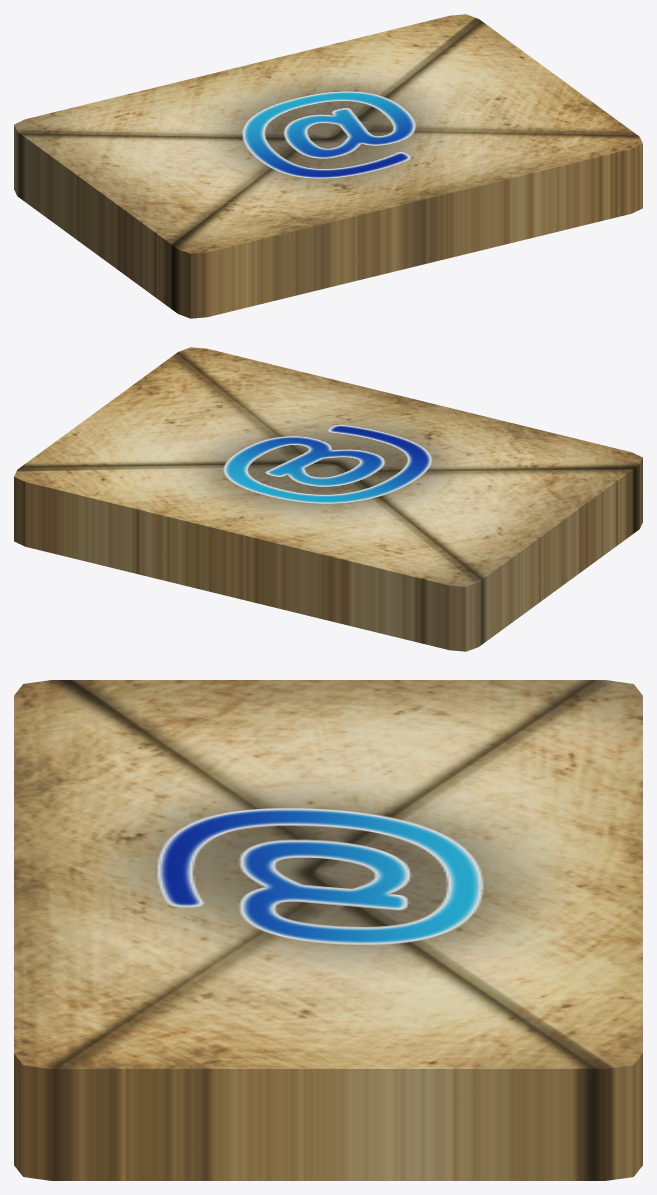
Rendered from eMail.FBX.
3 views of the same model, one above another, from view 1: azimuth 30°, elevation 25°; view 2: azimuth 150°, elevation 25°; view 3: azimuth 270°, elevation 25° (orthographic). The views are drawn at different scales.
Visible parts, largest first — view 1: mail; view 2: mail; view 3: mail.
Part boxes in pixels (x1=…): mail: x1=14, y1=14, x2=642, y2=318; mail: x1=14, y1=347, x2=642, y2=651; mail: x1=14, y1=680, x2=642, y2=1180.
Size of the model in its own units: 1.97 by 0.2645 by 1.35.
